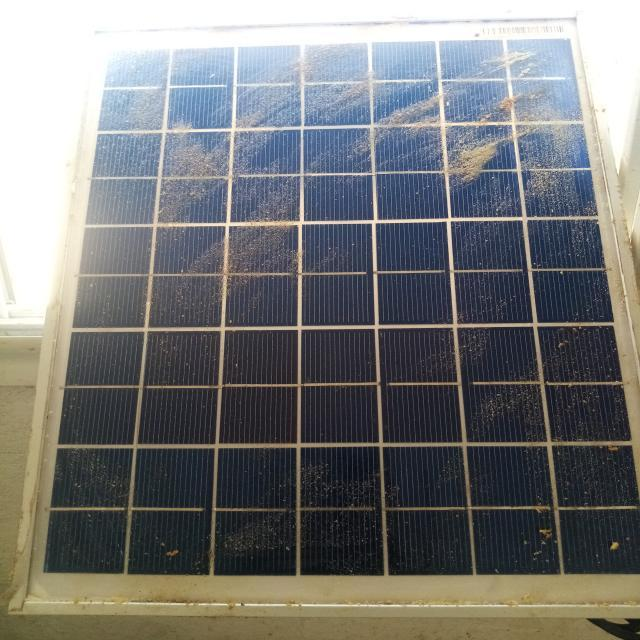faulty: (8, 18, 640, 611)
